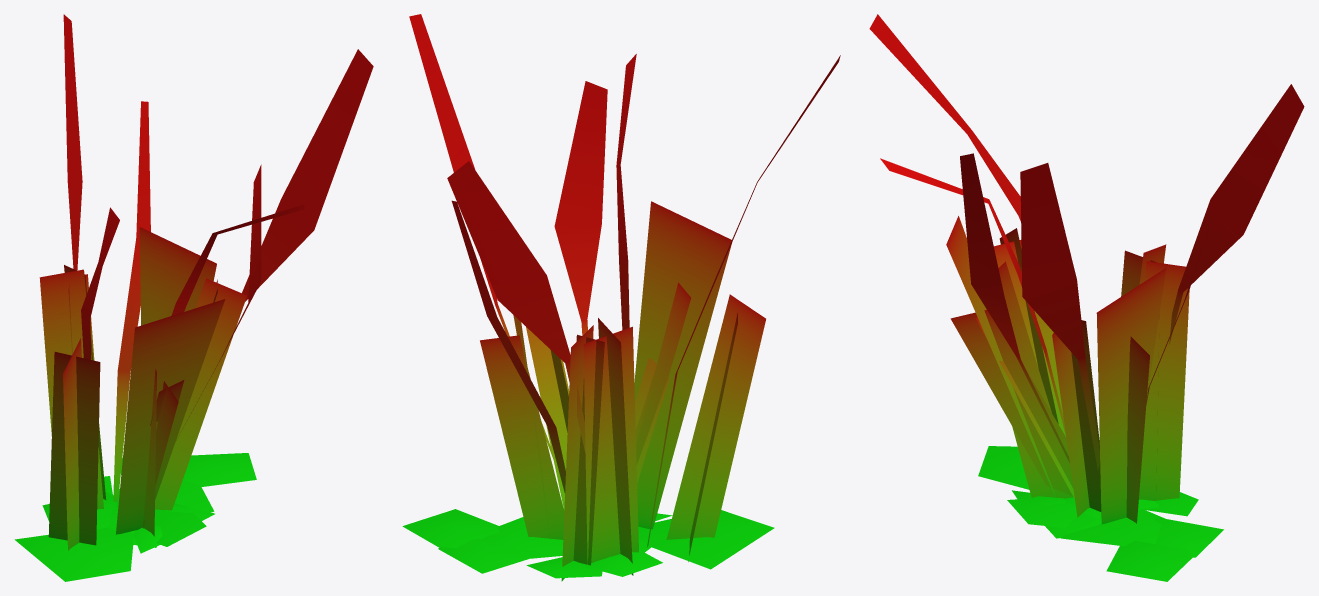
The model's file is Var5_LOD3.fbx.
3 views of the same model, side by side, from view 1: azimuth 30°, elevation 25°; view 2: azimuth 150°, elevation 25°; view 3: azimuth 270°, elevation 25° (orthographic). The views are drawn at different scales.
Parts seen in each view (by area): view 1: _c98e_Var5_LOD3; view 2: _c98e_Var5_LOD3; view 3: _c98e_Var5_LOD3.
Part boxes in pixels (left/top/right/bottom): _c98e_Var5_LOD3: left=14, top=14, right=373, bottom=581; _c98e_Var5_LOD3: left=402, top=14, right=840, bottom=581; _c98e_Var5_LOD3: left=869, top=14, right=1304, bottom=581.
Bounding box in the file's own units: 24.35 × 31.36 × 26.86.
